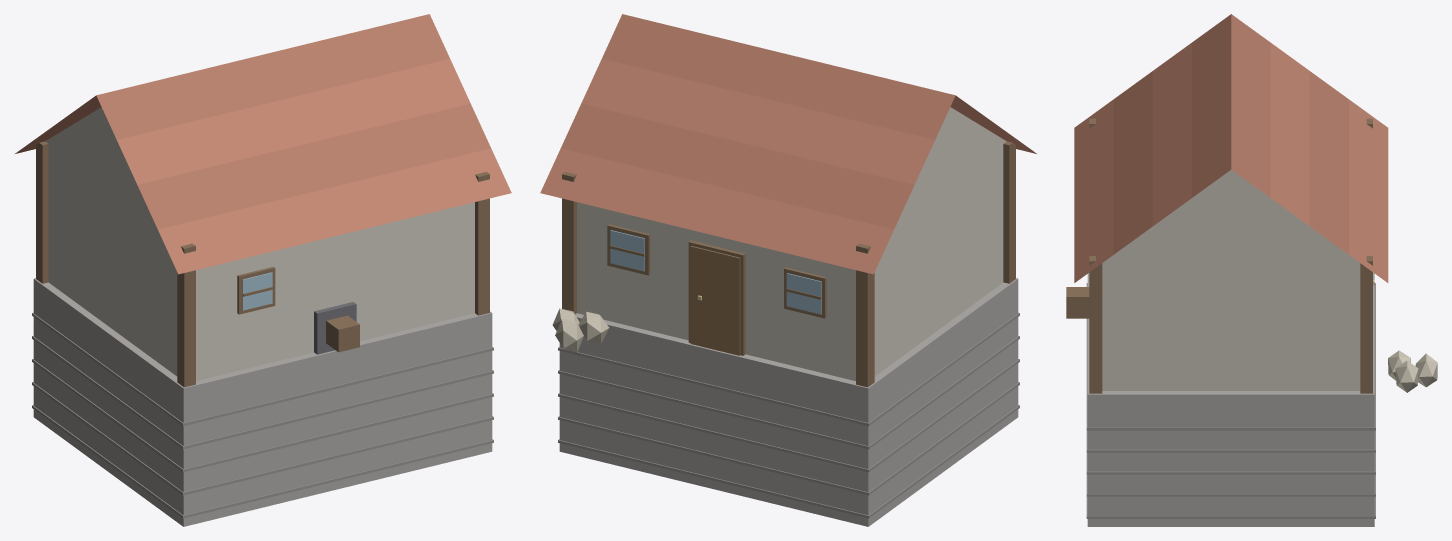
The model's file is water_mill.glb.
The picture shows the model from 3 angles, left to right: view 1: azimuth 30°, elevation 25°; view 2: azimuth 150°, elevation 25°; view 3: azimuth 270°, elevation 25°; orthographic projection. The views are drawn at different scales.
Parts seen in each view (by area): view 1: water_mill; view 2: water_mill; view 3: water_mill.
Part boxes in pixels (left/top/right/bottom): water_mill: left=15, top=14, right=511, bottom=526; water_mill: left=540, top=14, right=1036, bottom=526; water_mill: left=1066, top=14, right=1437, bottom=526.
Bounding box in the file's own units: 6.8 × 7.4 × 6.86.
